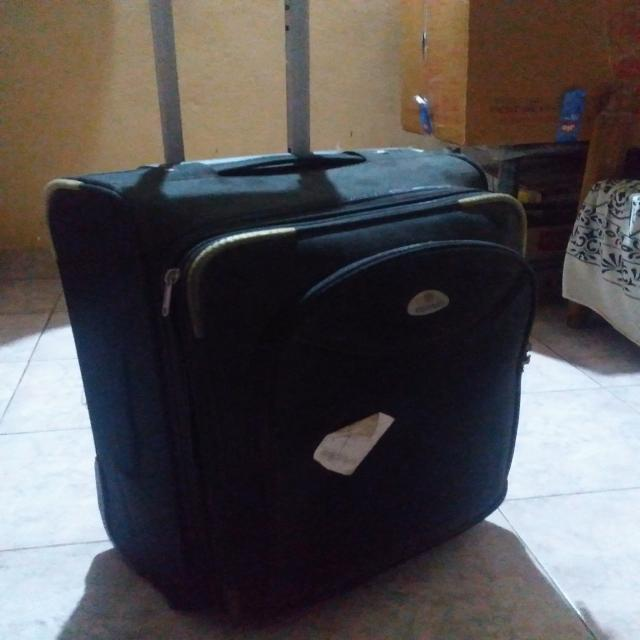suitcaserotation: (37, 0, 544, 633)
